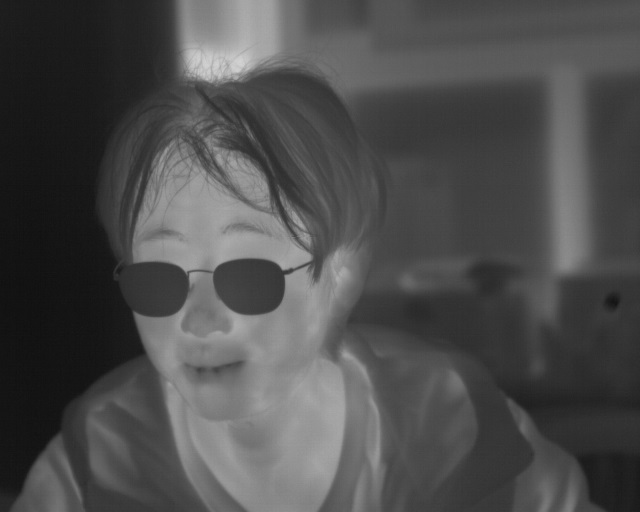face: (100, 59, 377, 427)
